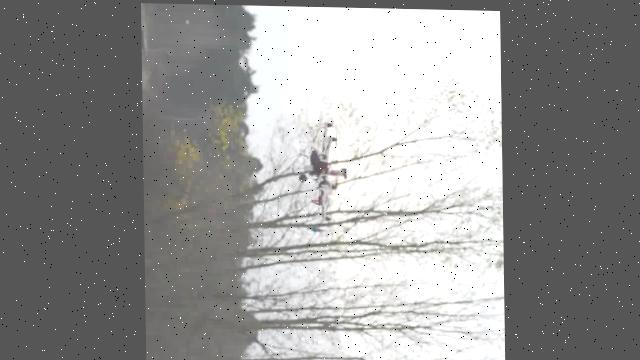drone: (278, 103, 356, 232)
